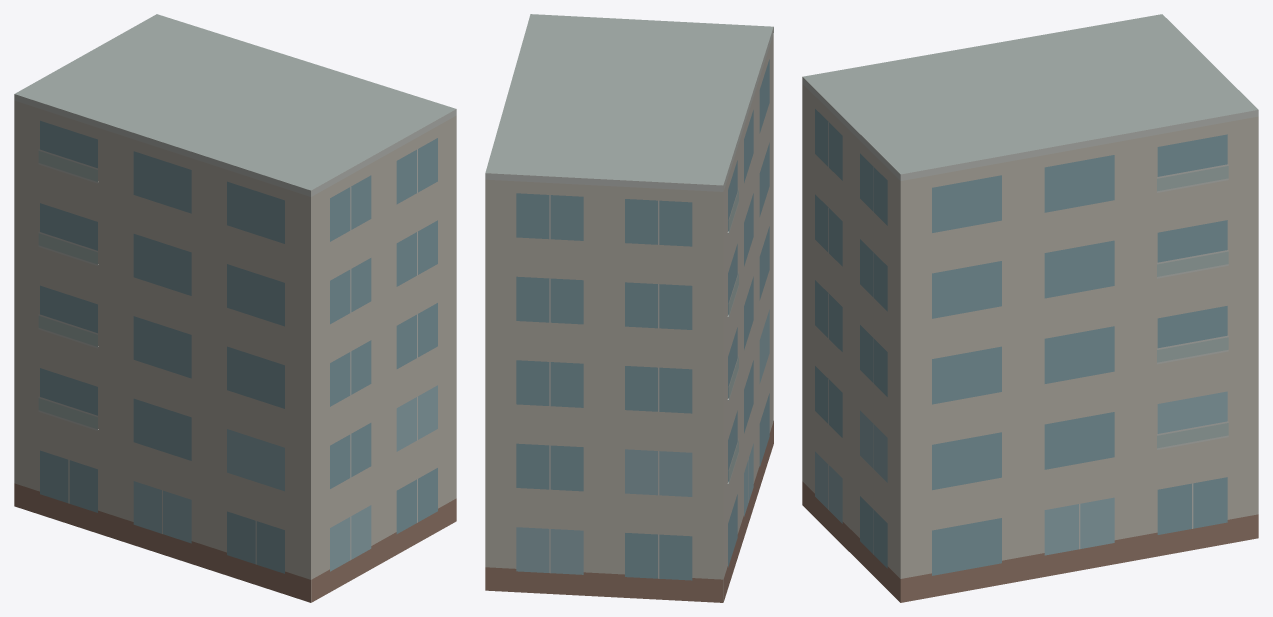
Rendered from survey-upis-32866155.glb.
3 views of the same model, side by side, from view 1: azimuth 30°, elevation 25°; view 2: azimuth 150°, elevation 25°; view 3: azimuth 270°, elevation 25° (orthographic). The views are drawn at different scales.
Visible parts, largest first — view 1: survey-upis-32866155.tmp; view 2: survey-upis-32866155.tmp; view 3: survey-upis-32866155.tmp.
Part boxes in pixels (left/top/right/bottom): survey-upis-32866155.tmp: left=14, top=14, right=456, bottom=602; survey-upis-32866155.tmp: left=485, top=14, right=773, bottom=602; survey-upis-32866155.tmp: left=802, top=14, right=1258, bottom=602.
Bounding box in the file's own units: 12.58 × 15.65 × 15.11.
